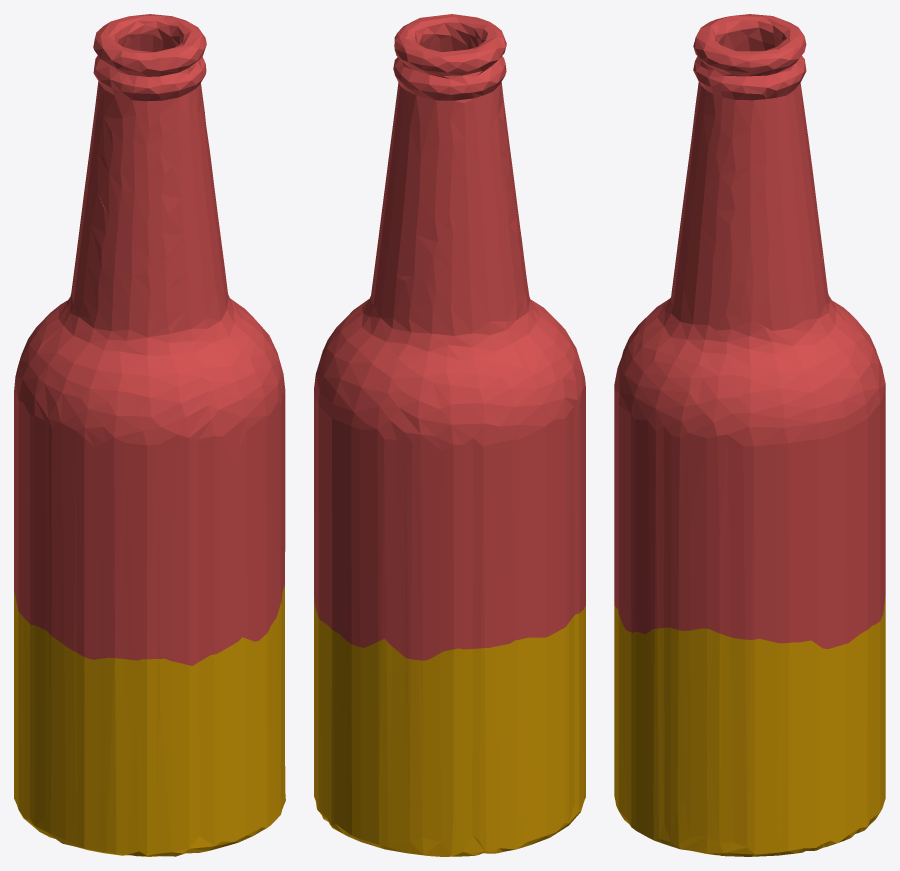
Rendered from fractured_58_2pcs.glb.
3 views of the same model, side by side, from view 1: azimuth 30°, elevation 25°; view 2: azimuth 150°, elevation 25°; view 3: azimuth 270°, elevation 25° (orthographic).
Visible parts, largest first — view 1: piece_1.obj, piece_0.obj; view 2: piece_1.obj, piece_0.obj; view 3: piece_1.obj, piece_0.obj.
Part boxes in pixels (x1,y1,x2,y2): piece_1.obj: (14, 14, 285, 665); piece_0.obj: (14, 585, 285, 856); piece_1.obj: (314, 14, 585, 660); piece_0.obj: (314, 595, 585, 856); piece_1.obj: (614, 14, 885, 648); piece_0.obj: (614, 596, 885, 856).
Bounding box in the file's own units: 0.3199 × 1 × 0.32.
